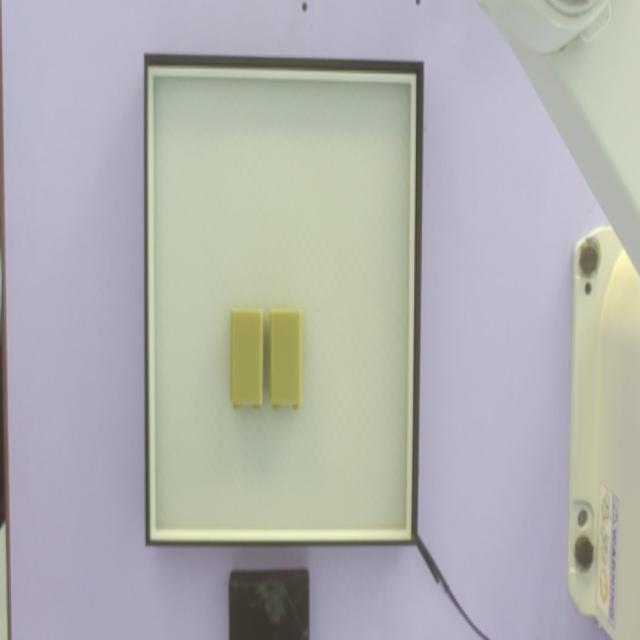bateria: (268, 312, 301, 413), (230, 310, 263, 410)
mesa: (144, 54, 424, 548)
